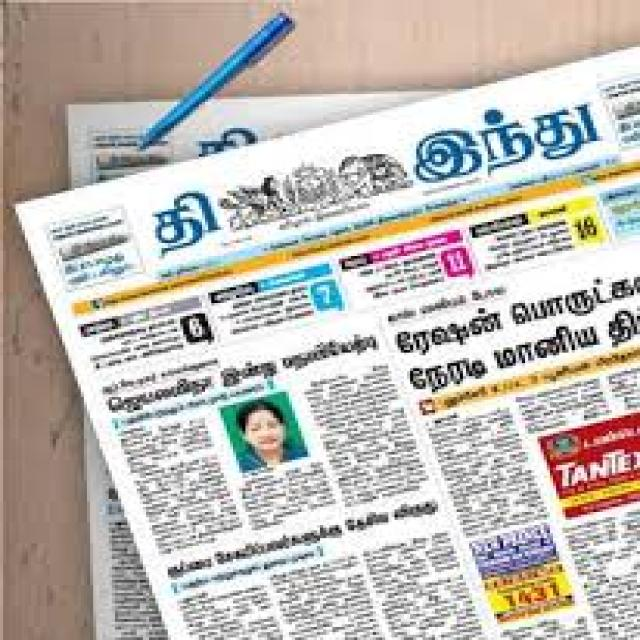paper: (6, 42, 637, 637), (65, 87, 637, 638)
